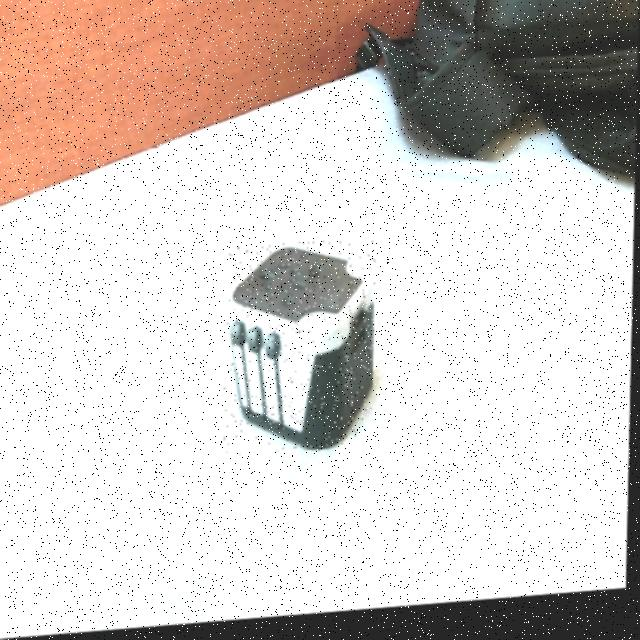adapter: (225, 243, 377, 461)
